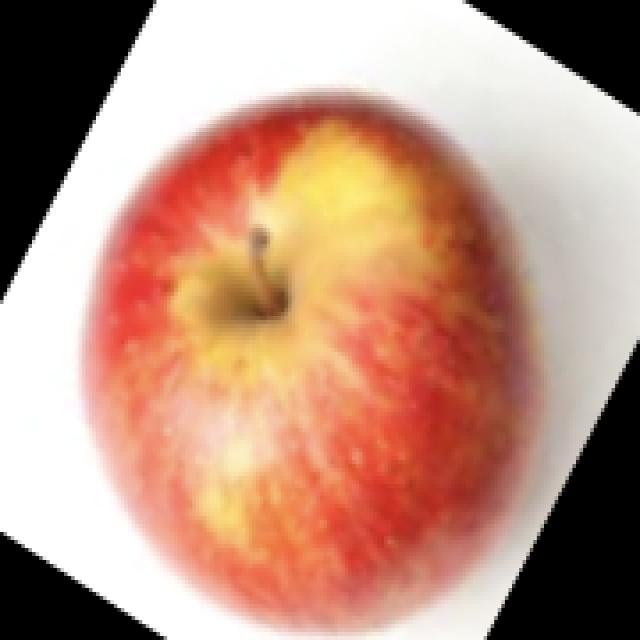Fresh Apple: (72, 92, 533, 625)
